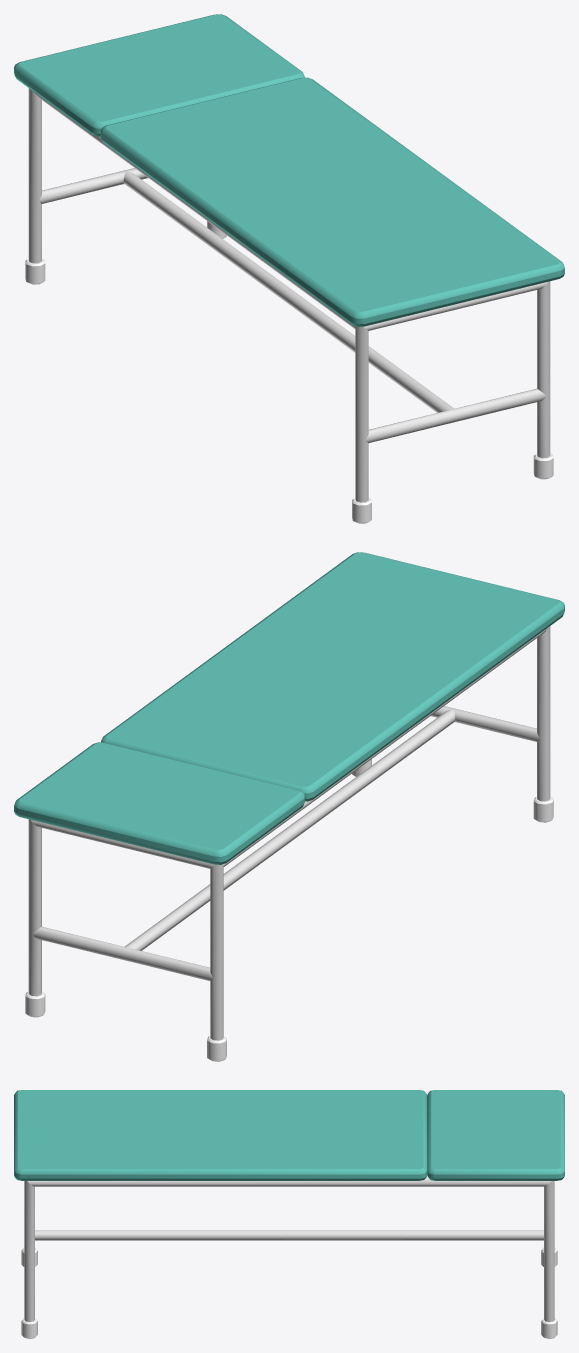
File: Medical_couch.fbx
3 views of the same model, one above another, from view 1: azimuth 30°, elevation 25°; view 2: azimuth 150°, elevation 25°; view 3: azimuth 270°, elevation 25° (orthographic). The views are drawn at different scales.
Visible parts, largest first — view 1: Medical_couch; view 2: Medical_couch; view 3: Medical_couch.
Boxes of the visible parts, left/top/right/bottom form: Medical_couch: left=14, top=14, right=564, bottom=523; Medical_couch: left=14, top=552, right=564, bottom=1061; Medical_couch: left=14, top=1090, right=564, bottom=1338.
Bounding box in the file's own units: 0.7185 × 0.696 × 2.03.
